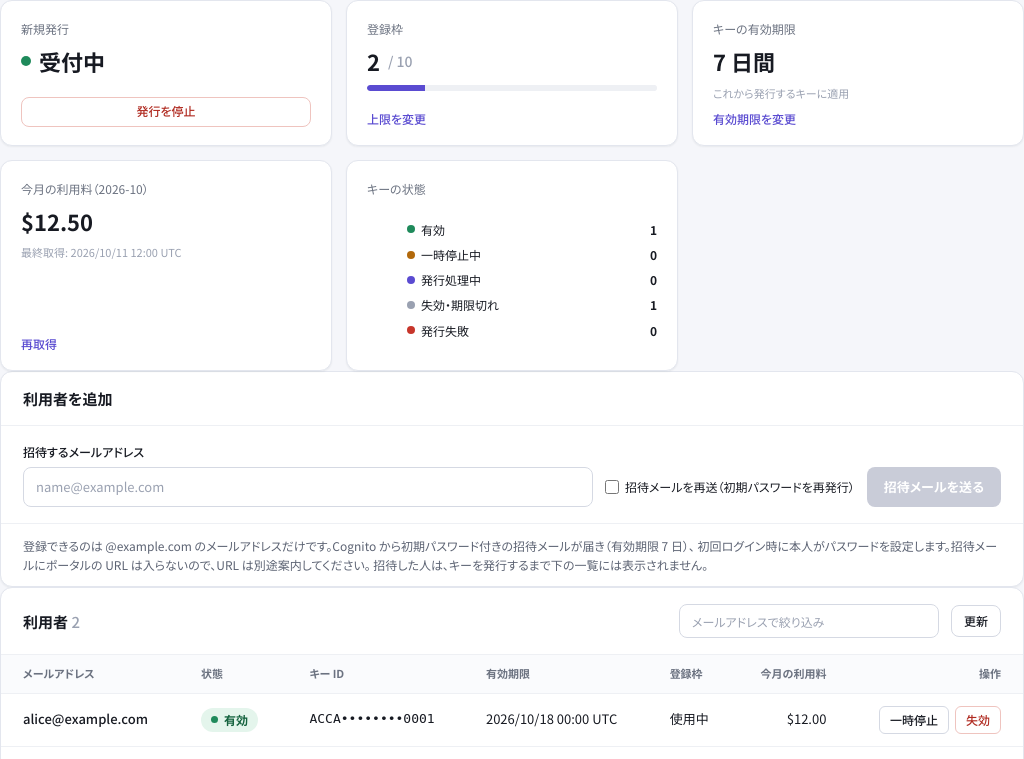
AdminView › hides the unlimited option and enforces the ceiling when one is set
The width and height of the screenshot is (1024, 759).
Click the button "有効期限を変更" at x=755, y=119, box [713,112,1003,127]
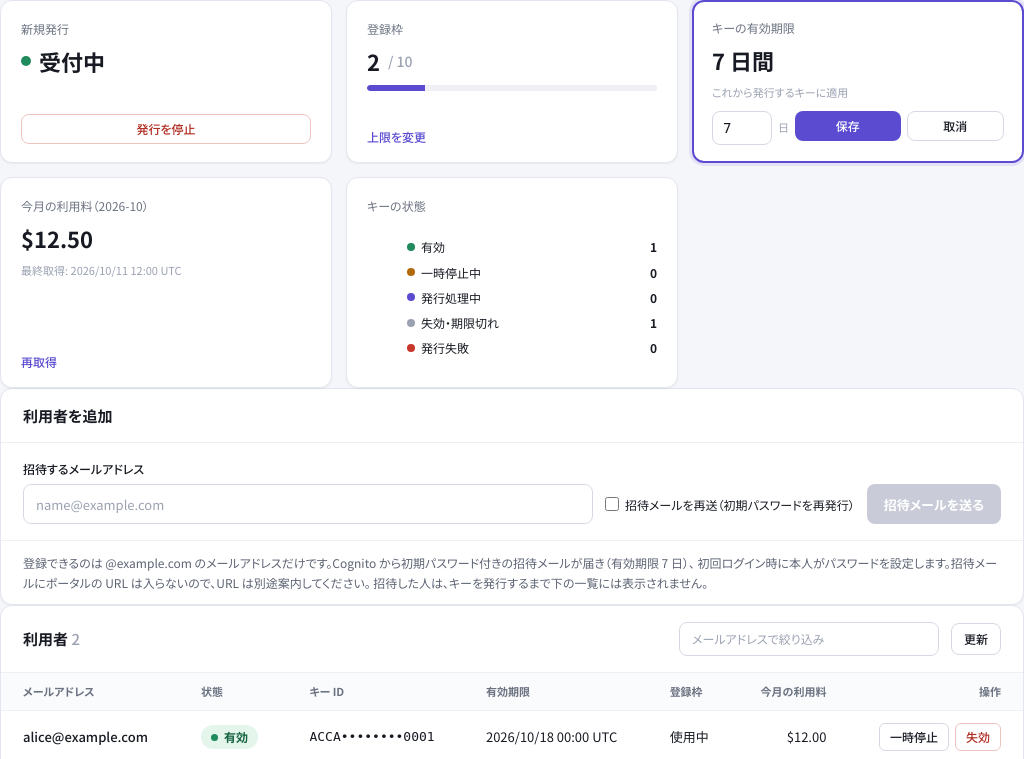
Replace the text in the number field named "有効日数" with "31" at x=742, y=128, box [712,111,772,145]
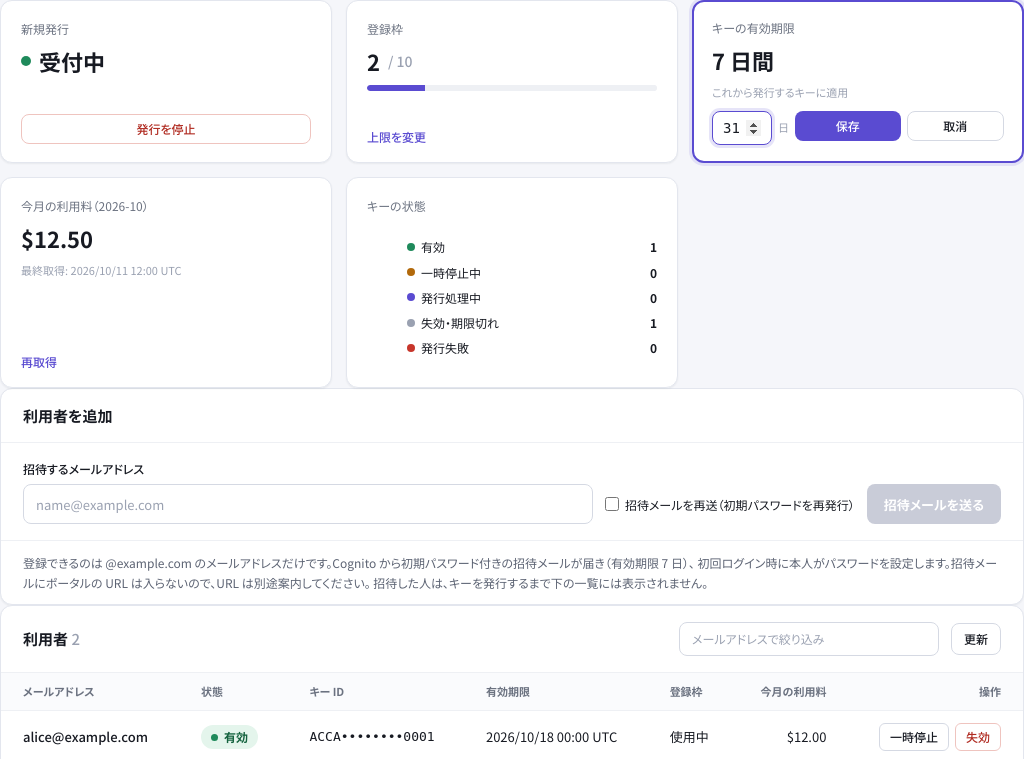
Click the button "保存" at x=848, y=126, box [795,111,900,141]
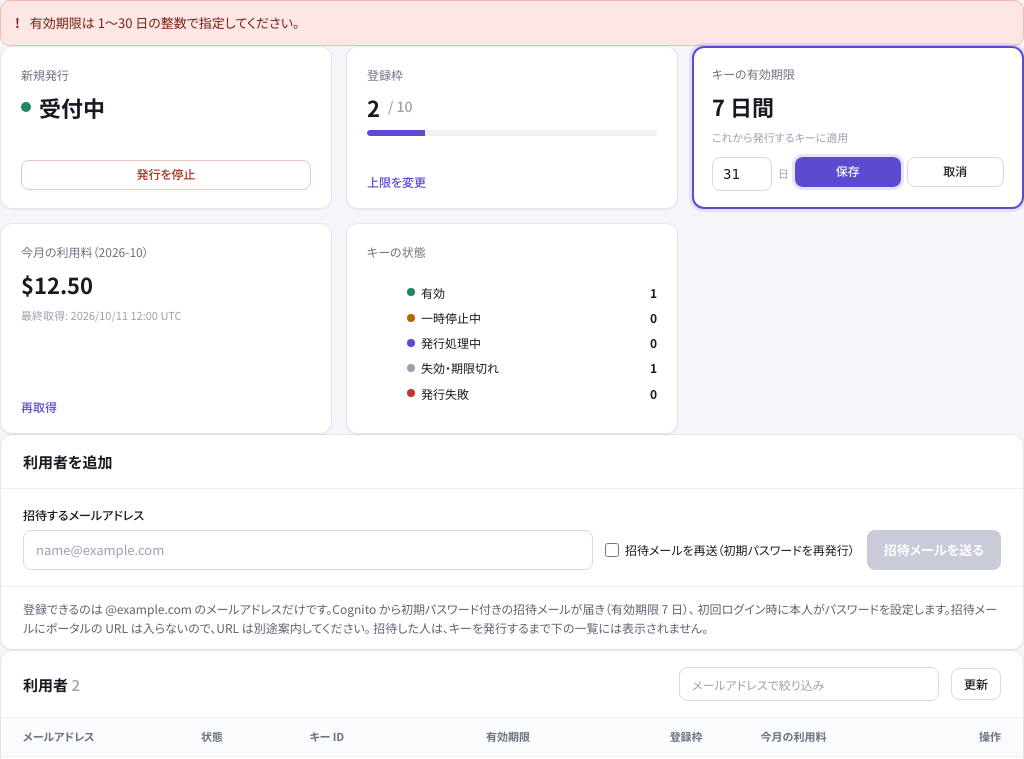
Check: the text "有効期限は 1〜30 日の整数で指定してください。" is shown, box [30,13,299,32]
